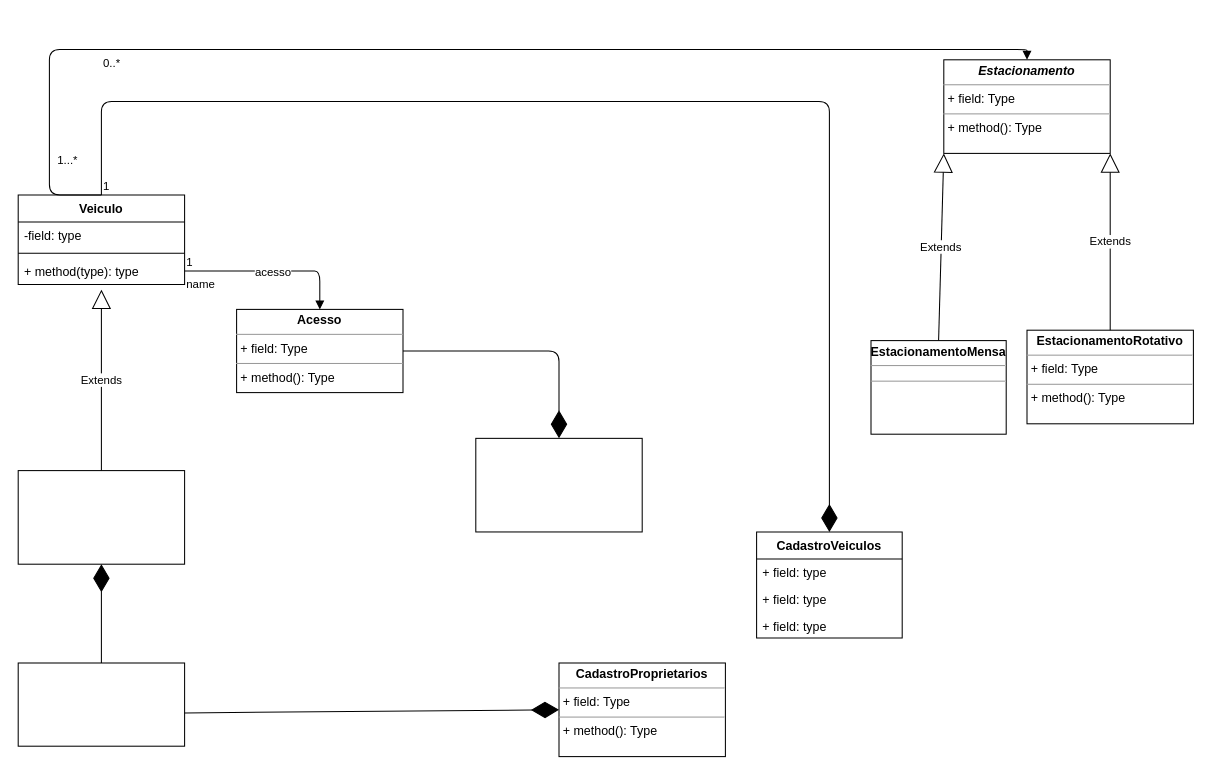
The diagram is 1212 pixels wide and 775 high, and some of its shapes have lost their labels. The shapes that lost their labels are listed below. From the top down, each one's centre as x and y in pixels, then its label:
At (x=558, y=484): "CadastroAcessos + field: Type + method(): Type".
At (x=101, y=517): "VeiculoMensalista + field: Type + method(): Type".
At (x=101, y=704): "Proprietario + field: Type + method(): Type".
